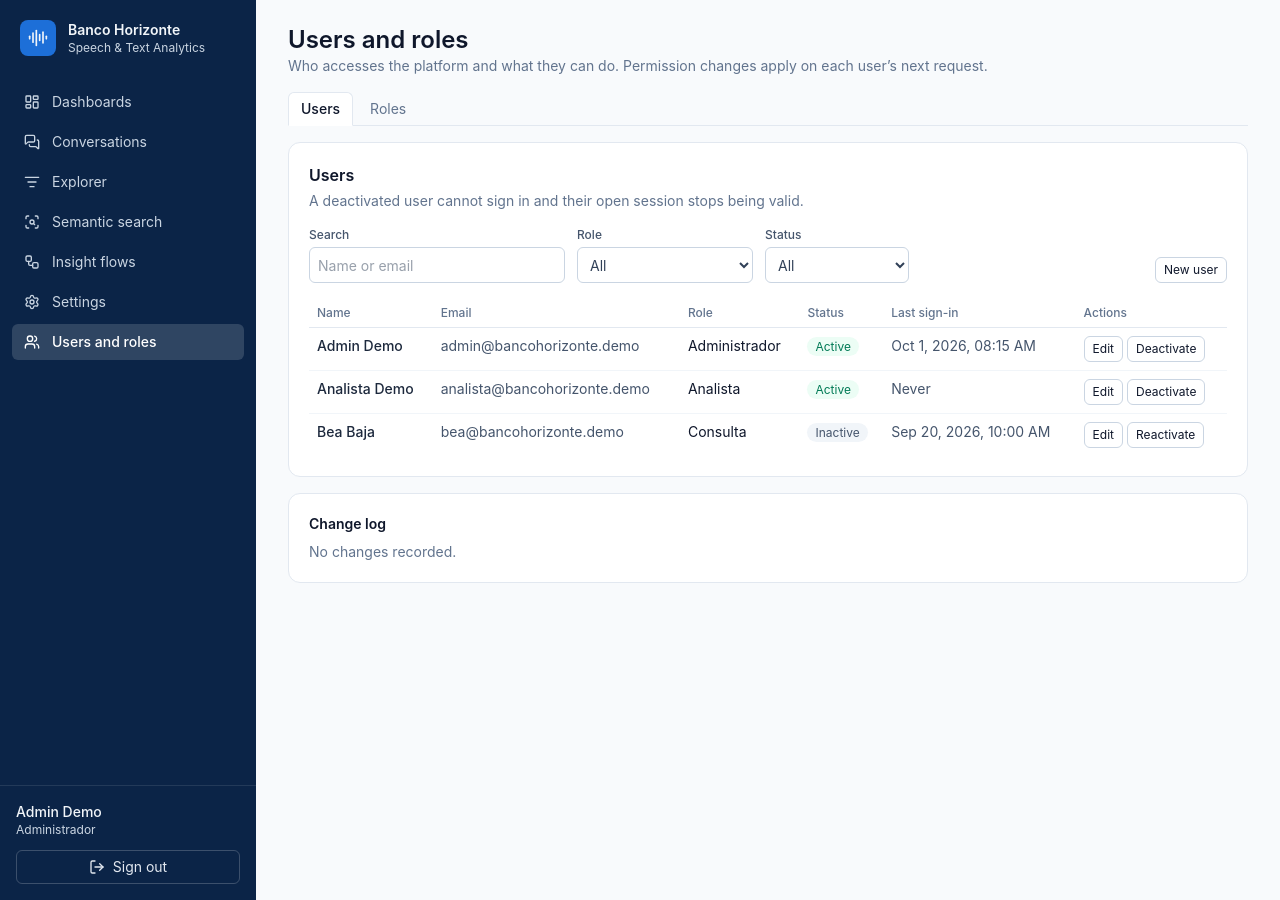
Scenario: Usuarios y roles con la interfaz en inglés (FE016, T6) › usuarios: cabeceras, estados y acciones en inglés; nombres, emails y roles son datos
Expected: the heading "Users and roles" is shown, [288,25,469,54]
Expected: the tab "Users" is shown, [288,92,353,126]
Click the button "New user".
click(1191, 270)  # box [1155,257,1227,283]
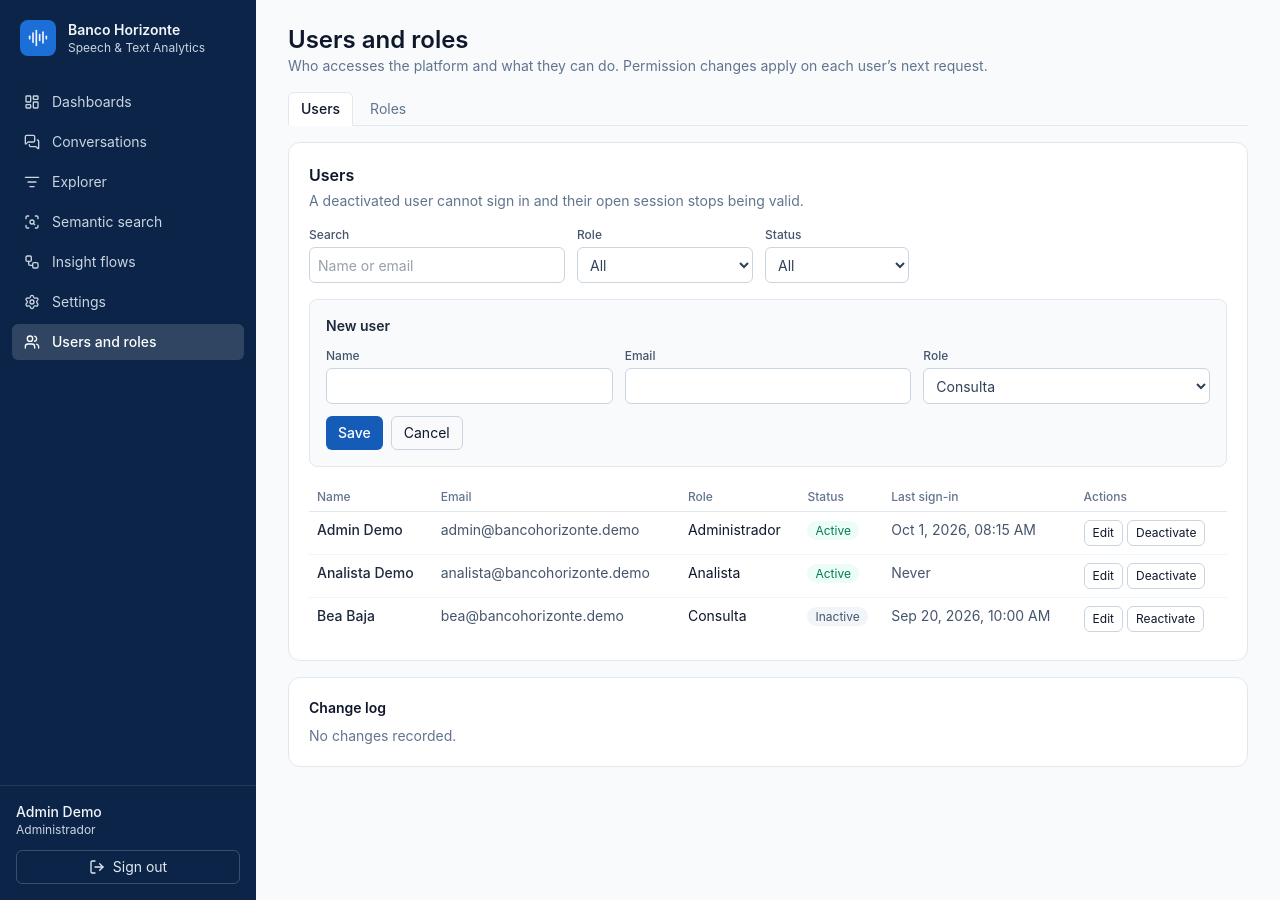
Expected: the field labelled "Name" is shown, [326,368,613,404]
Expected: the field labelled "Email" is shown, [625,368,911,404]
Expected: the 2nd dropdown labelled "Role" is shown, [923,368,1210,404]
